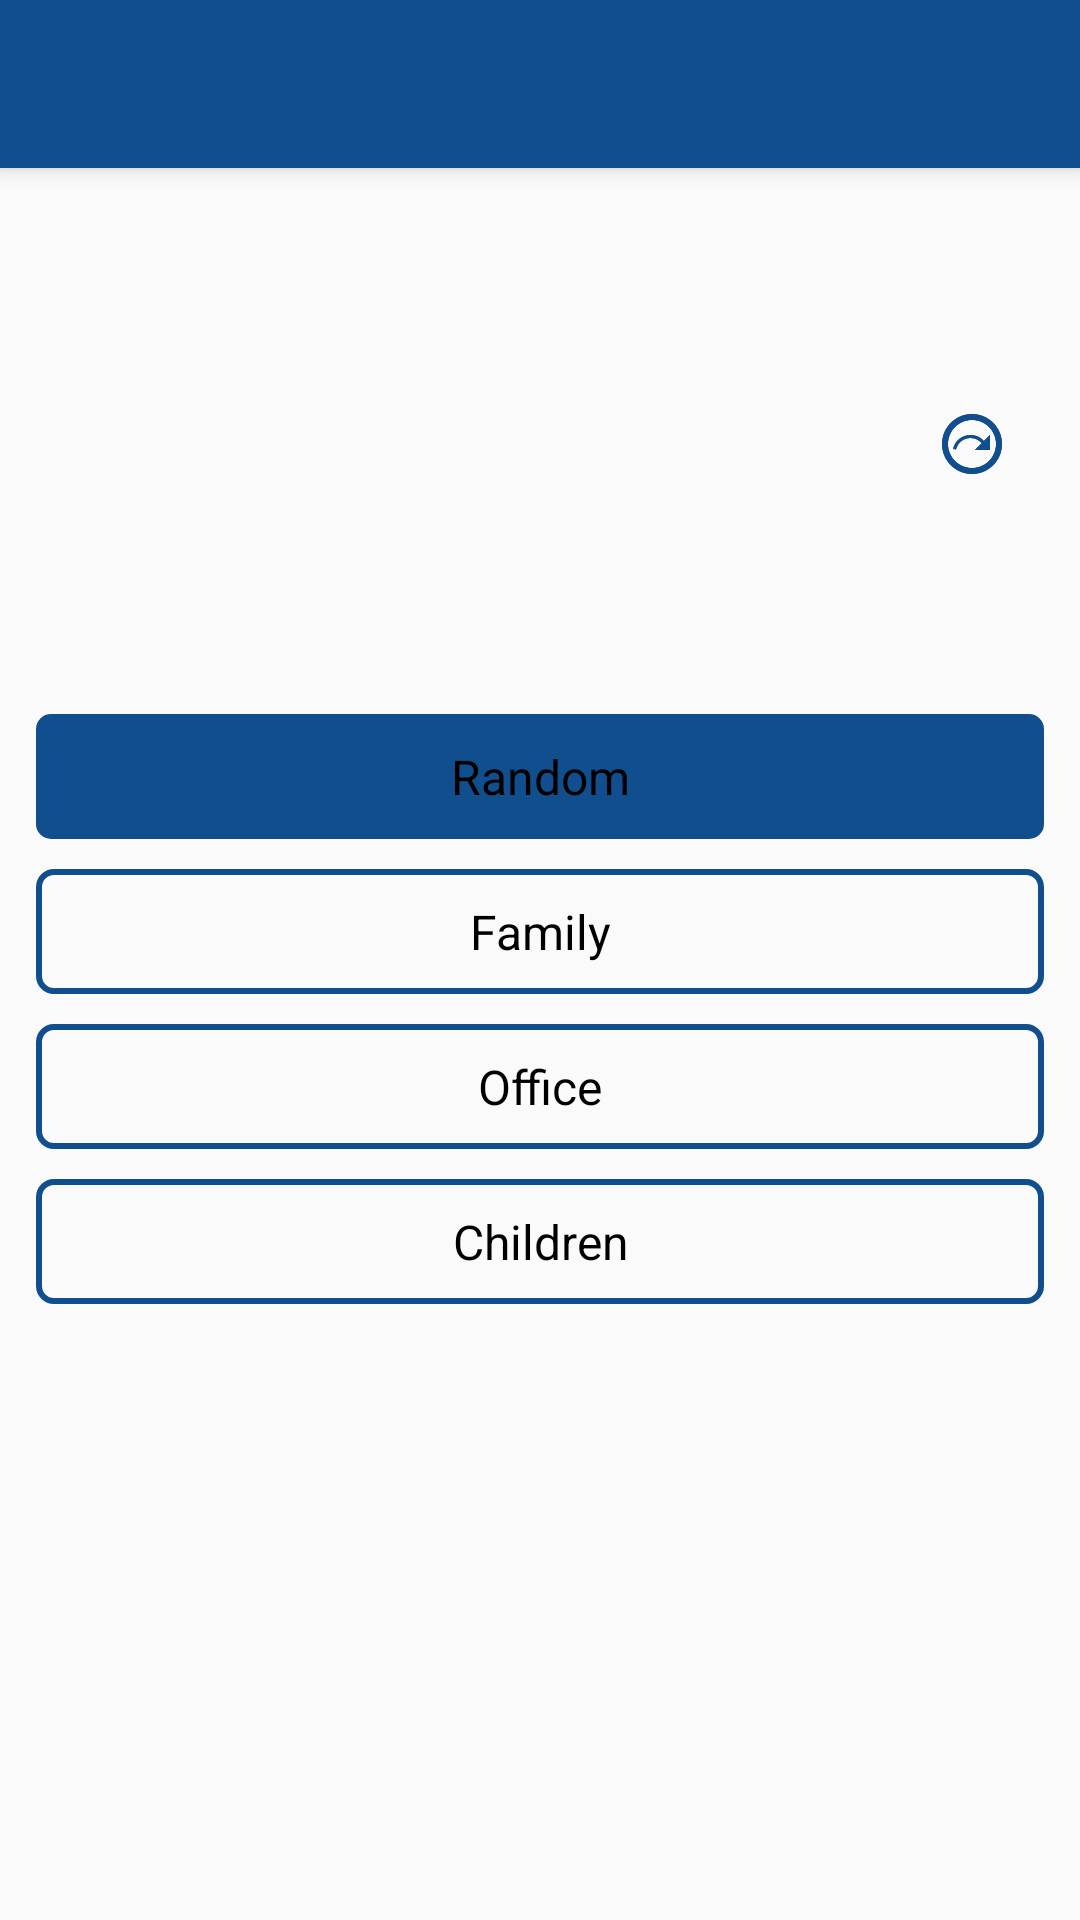

Screen size 1080*1920. Icon name, then its center in pixels as (x=x, y=y):
Next Excuse: (x=972, y=444)
